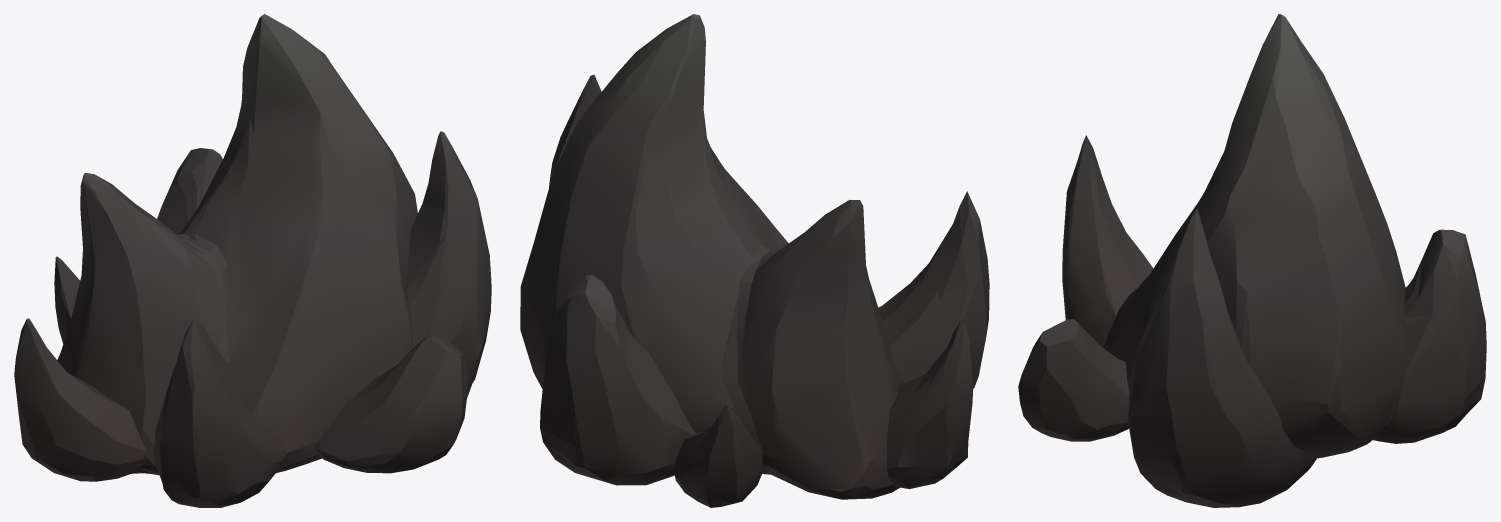
Rendered from inferno-crag-001.glb.
3 renders of one model, left to right at view 1: azimuth 30°, elevation 25°; view 2: azimuth 150°, elevation 25°; view 3: azimuth 270°, elevation 25°, orthographic. The views are drawn at different scales.
Visible parts, largest first — view 1: Crag_001; view 2: Crag_001; view 3: Crag_001.
Part boxes in pixels (left/top/right/bottom): Crag_001: left=14, top=14, right=491, bottom=507; Crag_001: left=520, top=14, right=989, bottom=507; Crag_001: left=1018, top=14, right=1486, bottom=507.
Size of the model in its own units: 10.18 by 9.61 by 9.19.
1 material, 1 textured.
